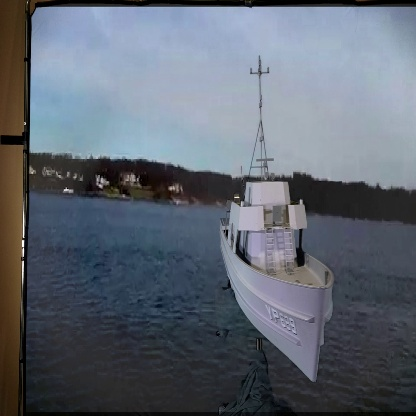YP689: (218, 54, 334, 384)
